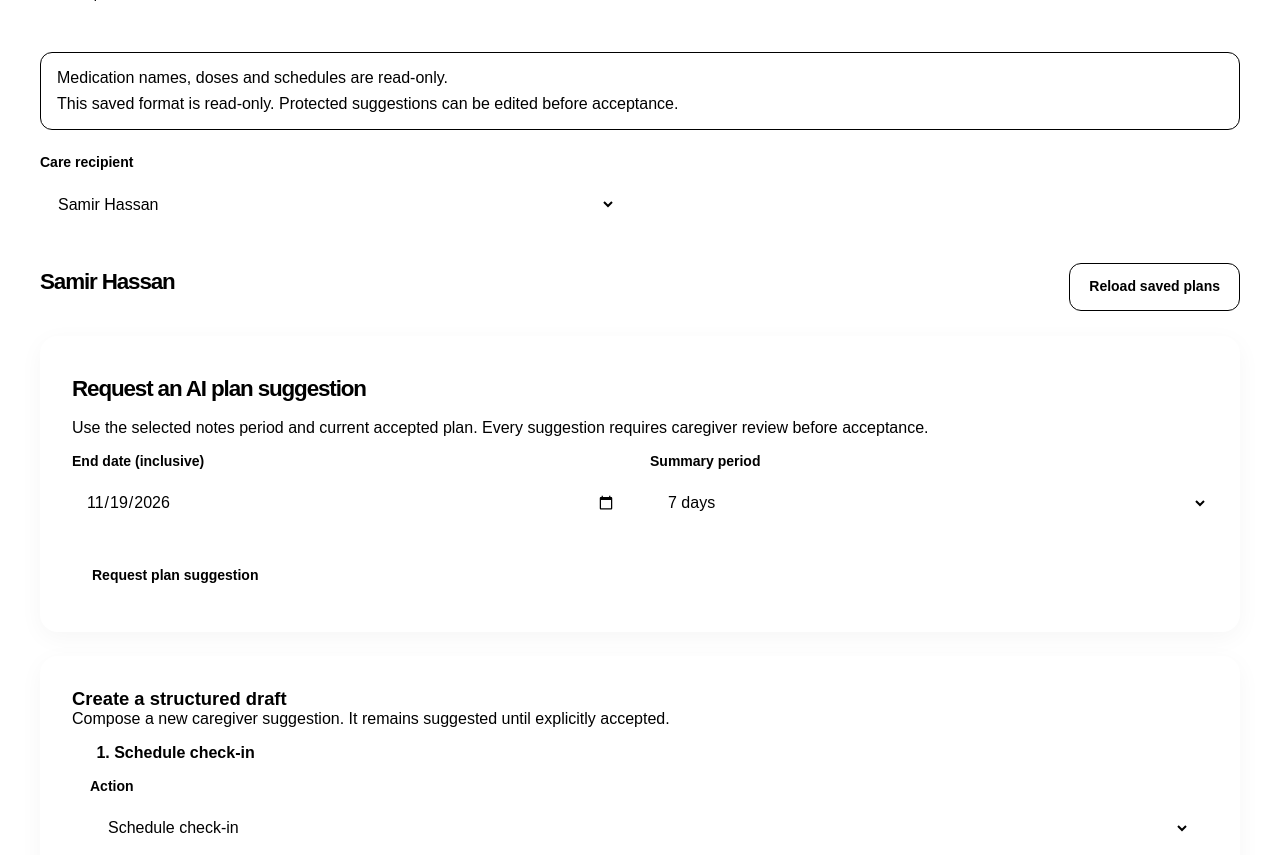
Scenario: care-plan review and authoritative backend decisions › does not fall back to server provider when BYOK credentials are missing
The width and height of the screenshot is (1280, 855).
(page scrolled)
In the date field labelled "End date (inclusive)": (351, 503) 72,478 -> 630,528, type "2026-10-22"
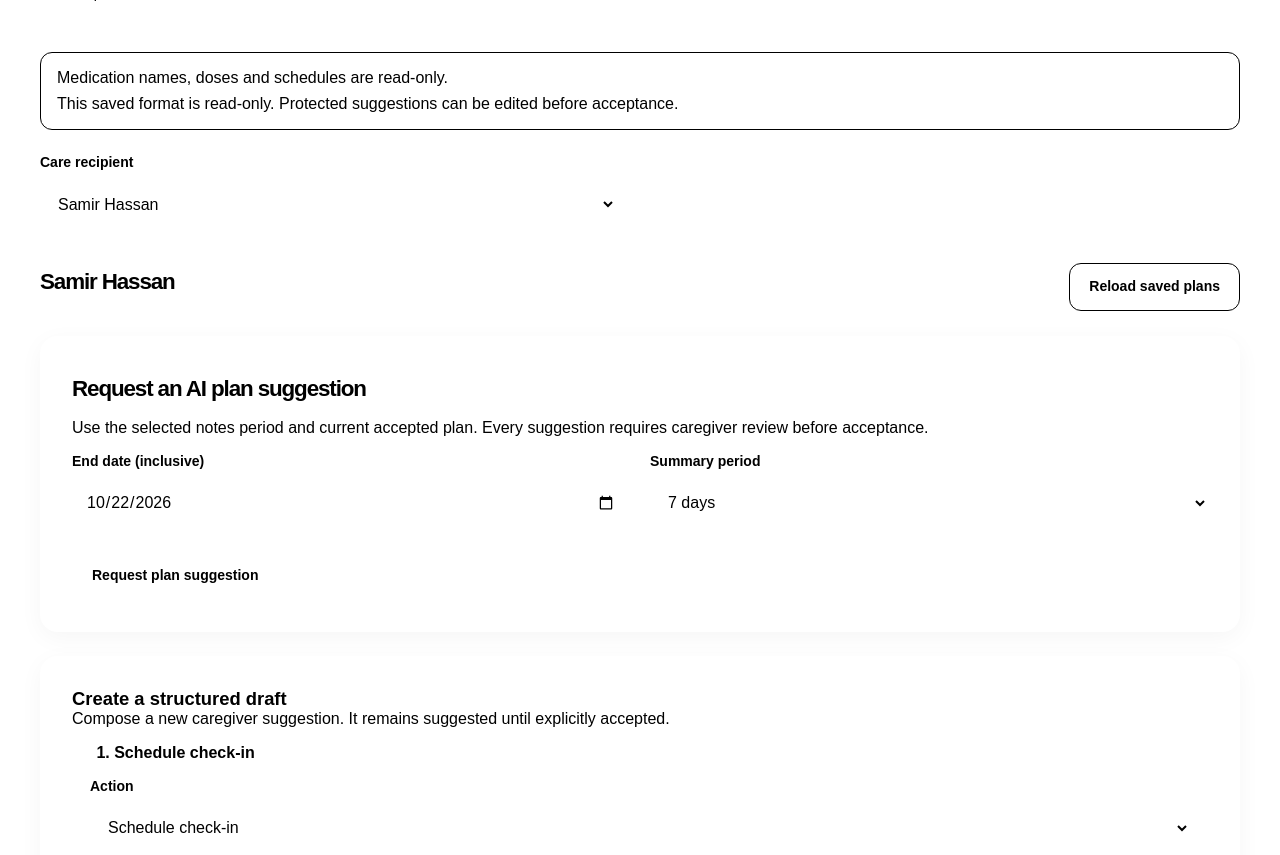
Select "7 days" in the dropdown labelled "Summary period": (929, 503) 650,478 -> 1208,528
Click the button "Request plan suggestion": (175, 576) 72,552 -> 278,600
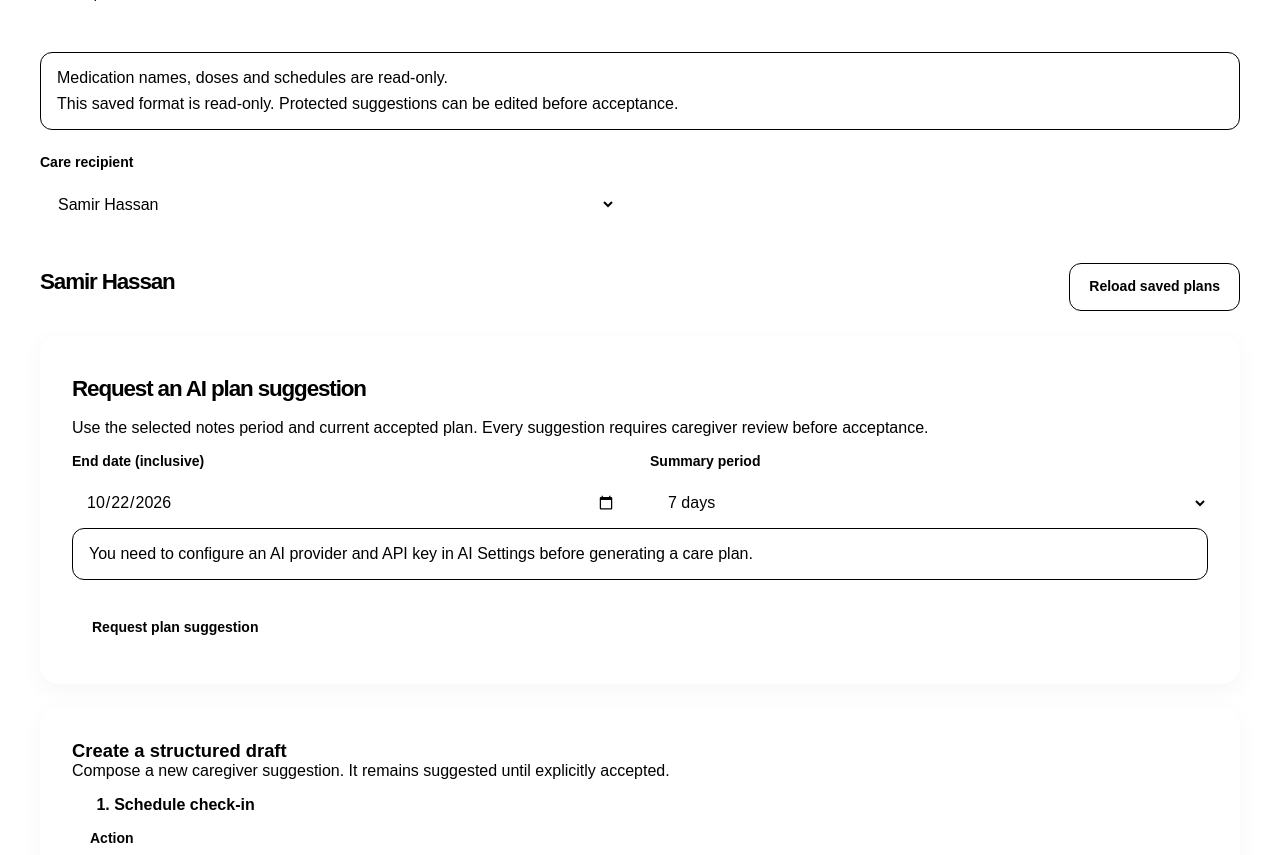
Expected: the text "You need to configure an AI provider and API key in AI Settings before generating a care plan." is shown, 89,545 -> 753,562
